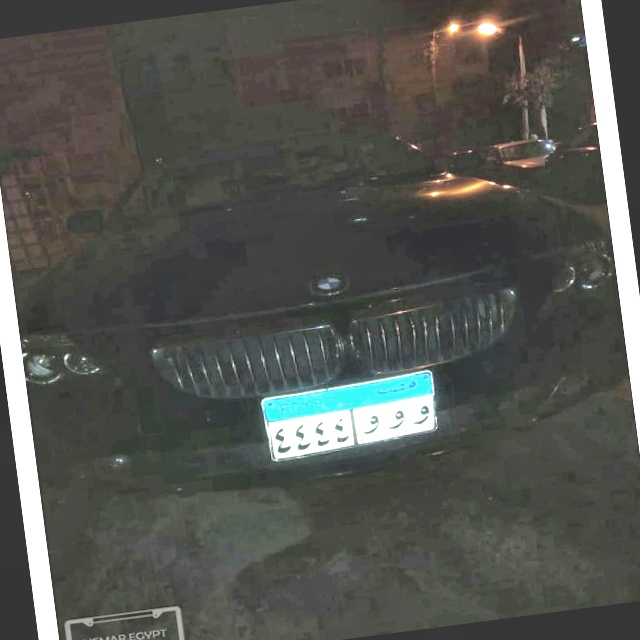License Plate: (256, 366, 447, 467)
